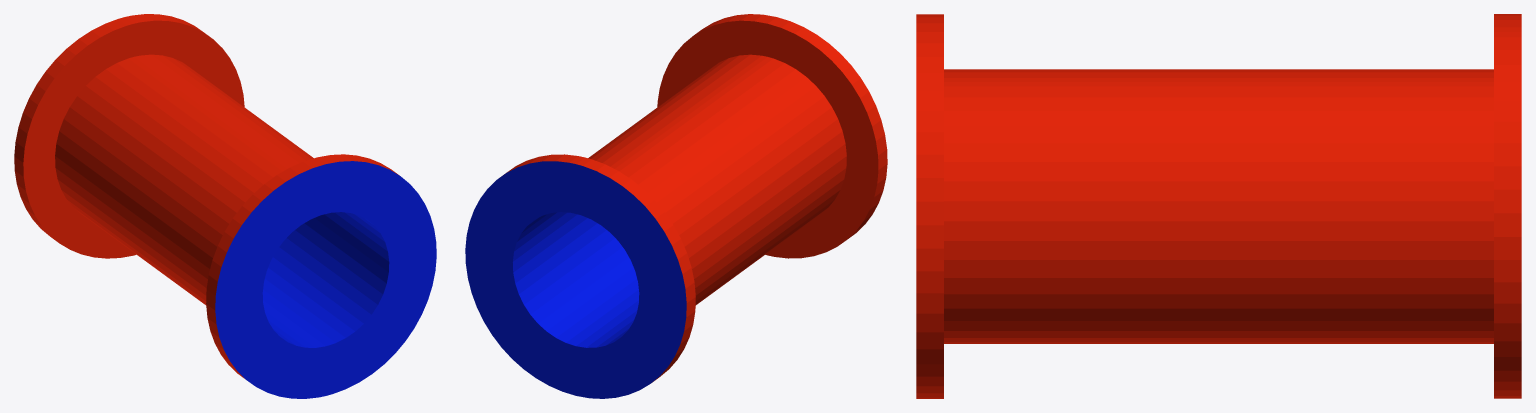
3 views of the same model, side by side, from view 1: azimuth 30°, elevation 25°; view 2: azimuth 150°, elevation 25°; view 3: azimuth 270°, elevation 25° (orthographic). The views are drawn at different scales.
Parts seen in each view (by area): view 1: teste; view 2: teste; view 3: teste.
Boxes of the visible parts, <box> form: teste: <box>14,14,436,398</box>; teste: <box>465,14,887,398</box>; teste: <box>916,14,1521,398</box>.
Size of the model in its own units: 2.8 by 2.8 by 4.4.
